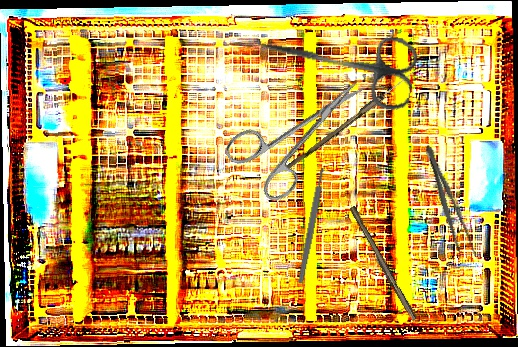Dressing Forceps: (418, 142, 480, 263)
Iris Scissors: (220, 55, 388, 210), (250, 10, 421, 114)
Scalpel Handle: (345, 205, 420, 323), (296, 167, 327, 284)
Surgical Spoon: (286, 67, 417, 173)
